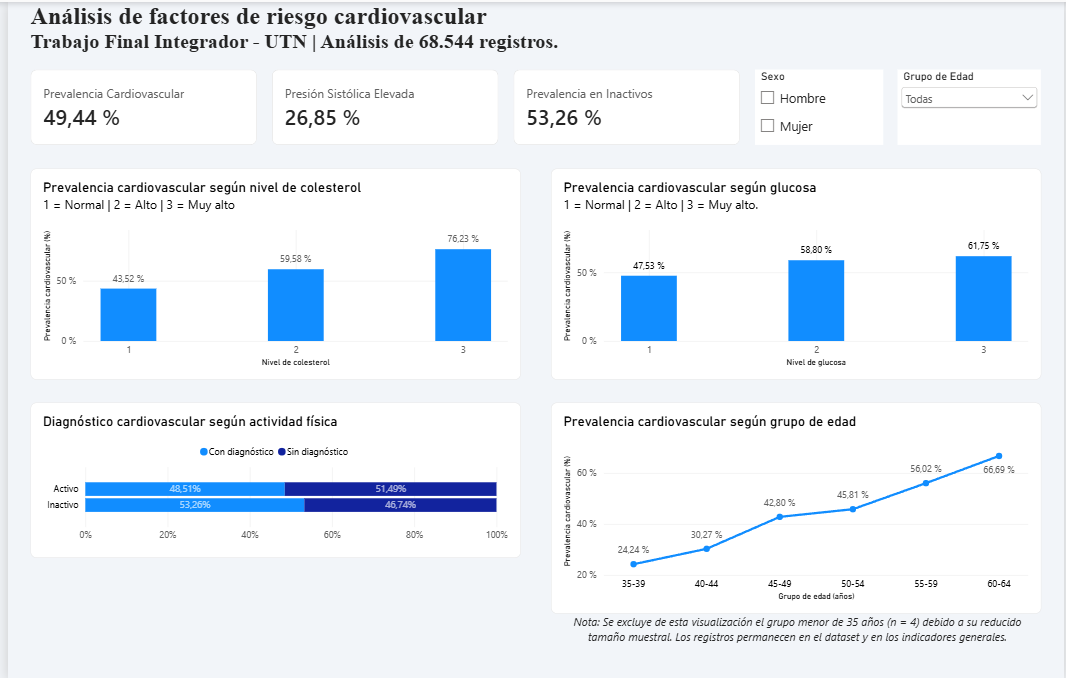

This screenshot's page, from the dashboard's own definition file:
{"tool":"powerbi","page":{"name":"Página 1","canvas":[1400,900],"ordinal":0},"visuals":[{"type":"cardVisual","fields":{"Data":["cardio_limpio.Prevalencia Cardiovascular"]},"box":[30,90,300,100],"z":0},{"type":"cardVisual","fields":{"Data":["cardio_limpio.Presión Sistólica Elevada"]},"box":[350,90,300,100],"z":1},{"type":"cardVisual","fields":{"Data":["cardio_limpio.Prevalencia en Inactivos"]},"box":[670,90,300,100],"z":2},{"type":"clusteredColumnChart","title":"Prevalencia cardiovascular según nivel de colesterol","fields":{"Category":["cardio_limpio.cholesterol"],"Y":["cardio_limpio.Prevalencia Cardiovascular"]},"box":[30,220,650,280],"z":3},{"type":"clusteredColumnChart","title":"Prevalencia cardiovascular según glucosa","fields":{"Category":["cardio_limpio.gluc"],"Y":["cardio_limpio.Prevalencia Cardiovascular"]},"box":[720,220,650,280],"z":4},{"type":"hundredPercentStackedBarChart","title":"Diagnóstico cardiovascular según actividad física","fields":{"Category":["cardio_limpio.Actividad Física"],"Series":["cardio_limpio.Estado Cardiovascular"],"Y":["CountNonNull(cardio_limpio.cardio)"]},"box":[30,530,650,206],"z":5},{"type":"lineChart","title":"Prevalencia cardiovascular según grupo de edad","fields":{"Category":["cardio_limpio.Grupo de Edad"],"Y":["cardio_limpio.Prevalencia Cardiovascular"]},"box":[720,530,650,280],"z":6},{"type":"textbox","box":[733.3,810.3,625.6,64.1],"z":7},{"type":"slicer","fields":{"Values":["cardio_limpio.Sexo"]},"box":[990,90,170,100],"z":8},{"type":"slicer","fields":{"Values":["cardio_limpio.Grupo de Edad"]},"box":[1180,90,190,100],"z":9},{"type":"textbox","box":[30.4,0,767.4,89.1],"z":10}]}

Visuals, with their boxes in screenshot pixels (x1, y1, x2, y2), scaled from the page's 1400x900 canvas onto the 1066x678 screenshot:
cardVisual - cardio_limpio.Prevalencia Cardiovascular: 23,68,251,143
cardVisual - cardio_limpio.Presión Sistólica Elevada: 266,68,495,143
cardVisual - cardio_limpio.Prevalencia en Inactivos: 510,68,739,143
"Prevalencia cardiovascular según nivel de colesterol" clusteredColumnChart: 23,166,518,377
"Prevalencia cardiovascular según glucosa" clusteredColumnChart: 548,166,1043,377
"Diagnóstico cardiovascular según actividad física" hundredPercentStackedBarChart: 23,399,518,554
"Prevalencia cardiovascular según grupo de edad" lineChart: 548,399,1043,610
textbox: 558,610,1035,659
slicer - cardio_limpio.Sexo: 754,68,883,143
slicer - cardio_limpio.Grupo de Edad: 898,68,1043,143
textbox: 23,0,607,67
